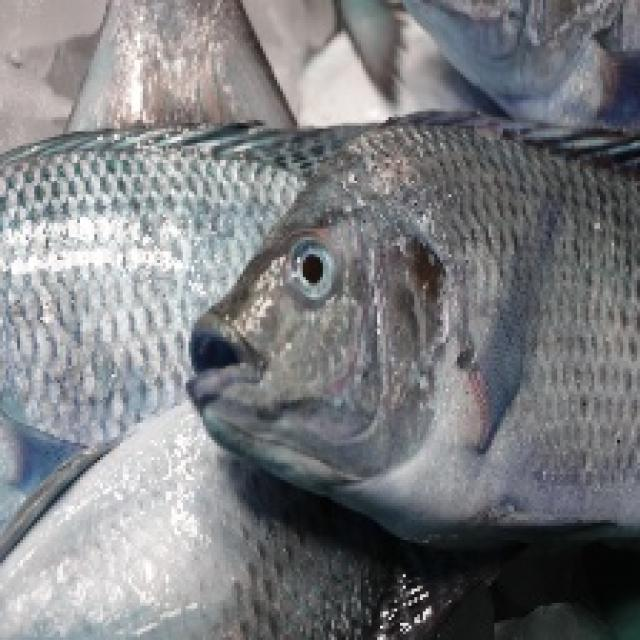Fresh: (162, 144, 640, 550)
